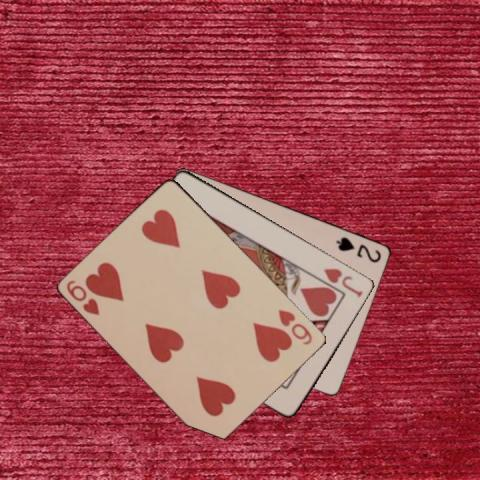2s: (333, 233, 384, 264)
6h: (275, 306, 314, 347), (64, 276, 102, 316)
Jh: (321, 264, 365, 298)
